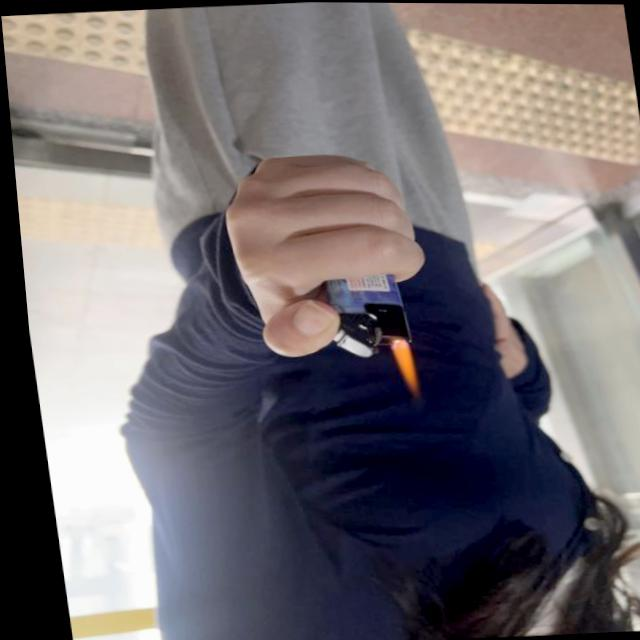Fire: (383, 341, 411, 386)
